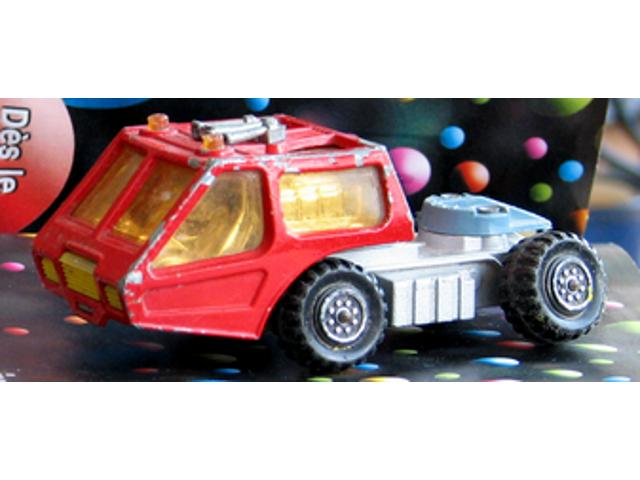toy-car: (29, 109, 607, 372)
